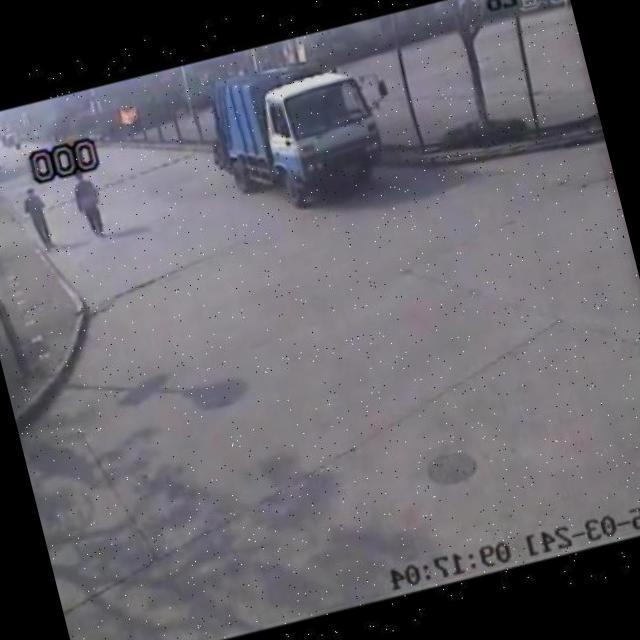person: (66, 156, 118, 247), (10, 175, 60, 258)
